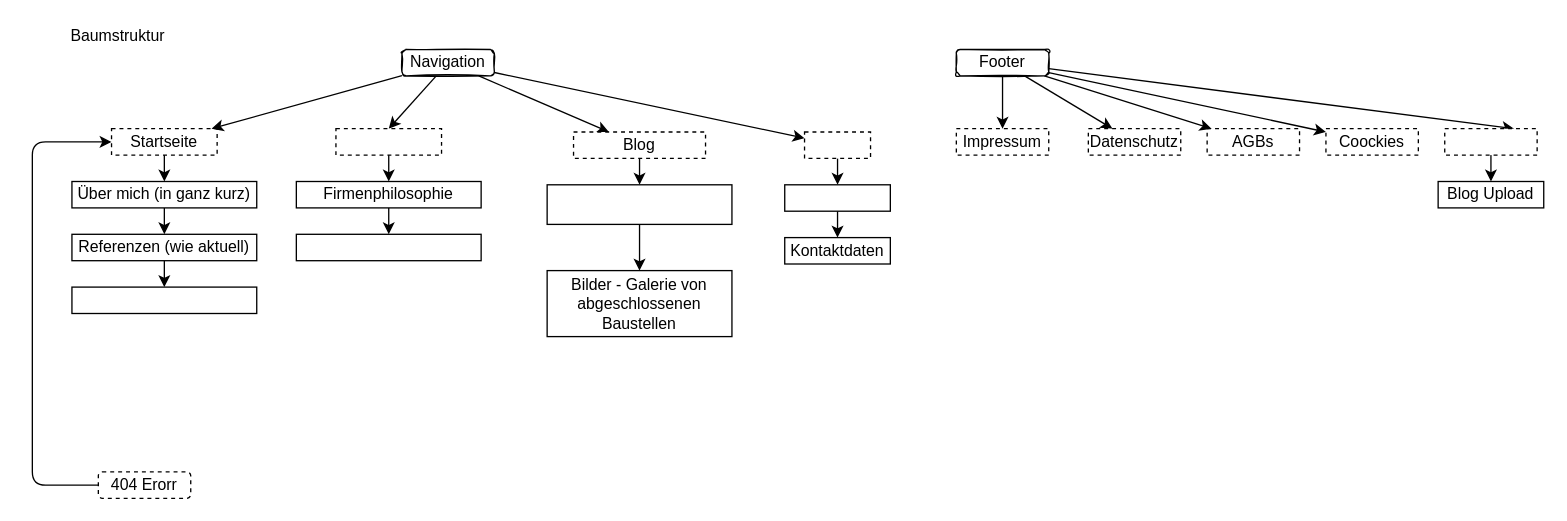
Some shapes in this 1567 by 521 pixel diagram are drawn without their labels. The centre of each missing label's shape, as x and y in pixels:
Bilder - Galerie von neusten Baustellen: point (639, 203)
Fliesen Erlich: point (388, 141)
Kontakt: point (837, 144)
Login: point (1490, 141)
Maps: point (836, 197)
Mitarbeter: point (388, 247)
Über mich (in länger): point (164, 300)
